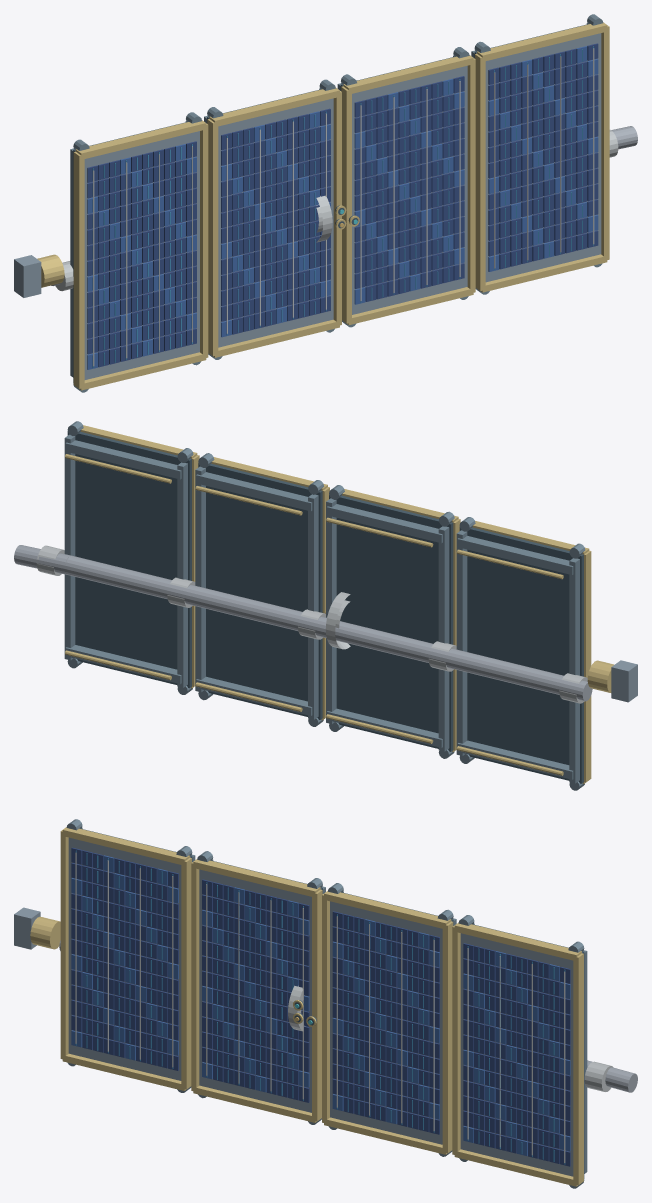
Rendered from 05_L83_DeployableSolarWingPort.glb.
3 views of the same model, one above another, from view 1: azimuth 30°, elevation 25°; view 2: azimuth 150°, elevation 25°; view 3: azimuth 330°, elevation 25° (orthographic). The views are drawn at different scales.
Visible parts, largest first — view 1: DeployableSolarWingPort_Node_0001, DeployableSolarWingPort_Node_0841, DeployableSolarWingPort_Node_0281, DeployableSolarWingPort_Node_0561, DeployableSolarWingPort_Node_0844, DeployableSolarWingPort_Node_0004, DeployableSolarWingPort_Node_0564, DeployableSolarWingPort_Node_0284, DeployableSolarWingPort_Node_0005, DeployableSolarWingPort_Node_0845, DeployableSolarWingPort_Node_0285, DeployableSolarWingPort_Node_0565 (+12 smaller); view 2: DeployableSolarWingPort_Node_0280, DeployableSolarWingPort_Node_0840, DeployableSolarWingPort_Node_0000, DeployableSolarWingPort_Node_0560, DeployableSolarWingPort_Node_1121, DeployableSolarWingPort_Node_0836, DeployableSolarWingPort_Node_0277, DeployableSolarWingPort_Node_1117, DeployableSolarWingPort_Node_0556, DeployableSolarWingPort_Node_1116, DeployableSolarWingPort_Node_0276, DeployableSolarWingPort_Node_0557 (+29 smaller); view 3: DeployableSolarWingPort_Node_0001, DeployableSolarWingPort_Node_0841, DeployableSolarWingPort_Node_0281, DeployableSolarWingPort_Node_0561, DeployableSolarWingPort_Node_0005, DeployableSolarWingPort_Node_0285, DeployableSolarWingPort_Node_0845, DeployableSolarWingPort_Node_0565, DeployableSolarWingPort_Node_0004, DeployableSolarWingPort_Node_0844, DeployableSolarWingPort_Node_0564, DeployableSolarWingPort_Node_0284 (+13 smaller).
Boxes of the visible parts, <box> form: DeployableSolarWingPort_Node_0001: <box>485,33,601,282</box>; DeployableSolarWingPort_Node_0841: <box>84,131,199,379</box>; DeployableSolarWingPort_Node_0281: <box>352,65,467,314</box>; DeployableSolarWingPort_Node_0561: <box>218,98,333,347</box>; DeployableSolarWingPort_Node_0844: <box>73,151,84,388</box>; DeployableSolarWingPort_Node_0004: <box>475,53,485,290</box>; DeployableSolarWingPort_Node_0564: <box>207,119,218,356</box>; DeployableSolarWingPort_Node_0284: <box>341,86,351,323</box>; DeployableSolarWingPort_Node_0005: <box>601,25,609,260</box>; DeployableSolarWingPort_Node_0845: <box>200,123,208,357</box>; DeployableSolarWingPort_Node_0285: <box>467,58,475,292</box>; DeployableSolarWingPort_Node_0565: <box>333,91,341,325</box>; DeployableSolarWingPort_Node_0280: <box>198,463,322,719</box>; DeployableSolarWingPort_Node_0840: <box>459,526,583,783</box>; DeployableSolarWingPort_Node_0000: <box>67,431,191,688</box>; DeployableSolarWingPort_Node_0560: <box>329,495,453,751</box>; DeployableSolarWingPort_Node_1121: <box>65,555,592,701</box>; DeployableSolarWingPort_Node_0836: <box>438,526,449,751</box>; DeployableSolarWingPort_Node_0277: <box>64,434,75,660</box>; DeployableSolarWingPort_Node_1117: <box>456,530,467,755</box>; DeployableSolarWingPort_Node_0556: <box>308,494,318,719</box>; DeployableSolarWingPort_Node_1116: <box>569,558,579,783</box>; DeployableSolarWingPort_Node_0276: <box>177,462,187,687</box>; DeployableSolarWingPort_Node_0557: <box>195,466,205,692</box>; DeployableSolarWingPort_Node_0001: <box>460,933,573,1176</box>; DeployableSolarWingPort_Node_0841: <box>68,837,181,1080</box>; DeployableSolarWingPort_Node_0281: <box>330,901,442,1144</box>; DeployableSolarWingPort_Node_0561: <box>199,869,311,1112</box>; DeployableSolarWingPort_Node_0005: <box>573,953,583,1185</box>; DeployableSolarWingPort_Node_0285: <box>442,921,453,1153</box>; DeployableSolarWingPort_Node_0845: <box>181,857,191,1089</box>; DeployableSolarWingPort_Node_0565: <box>312,889,322,1121</box>; DeployableSolarWingPort_Node_0004: <box>452,925,460,1154</box>; DeployableSolarWingPort_Node_0844: <box>60,830,68,1059</box>; DeployableSolarWingPort_Node_0564: <box>191,862,199,1090</box>; DeployableSolarWingPort_Node_0284: <box>322,894,329,1122</box>.
Bounding box in the file's own units: 7.76 × 2.97 × 0.7495.
